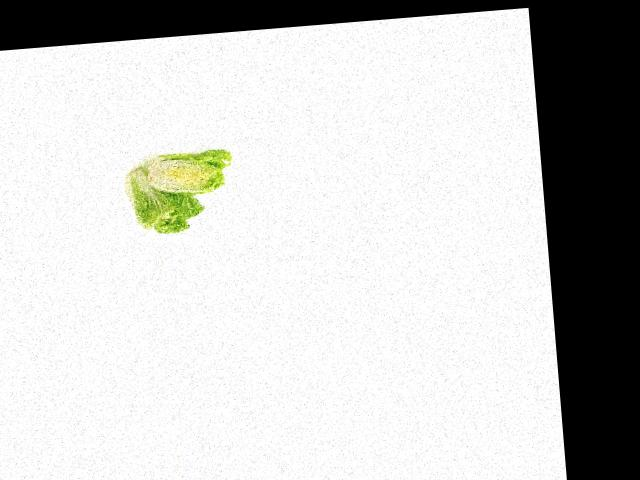lettuce: (121, 158, 211, 240)
